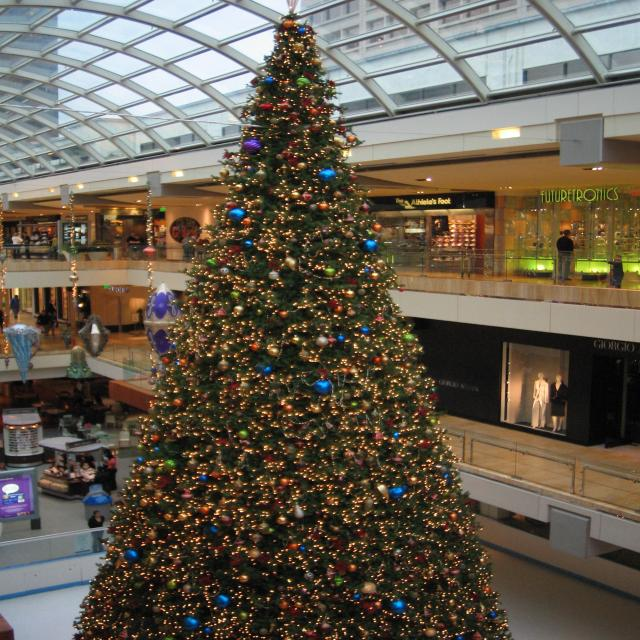Christmas-tree: (102, 0, 474, 640)
